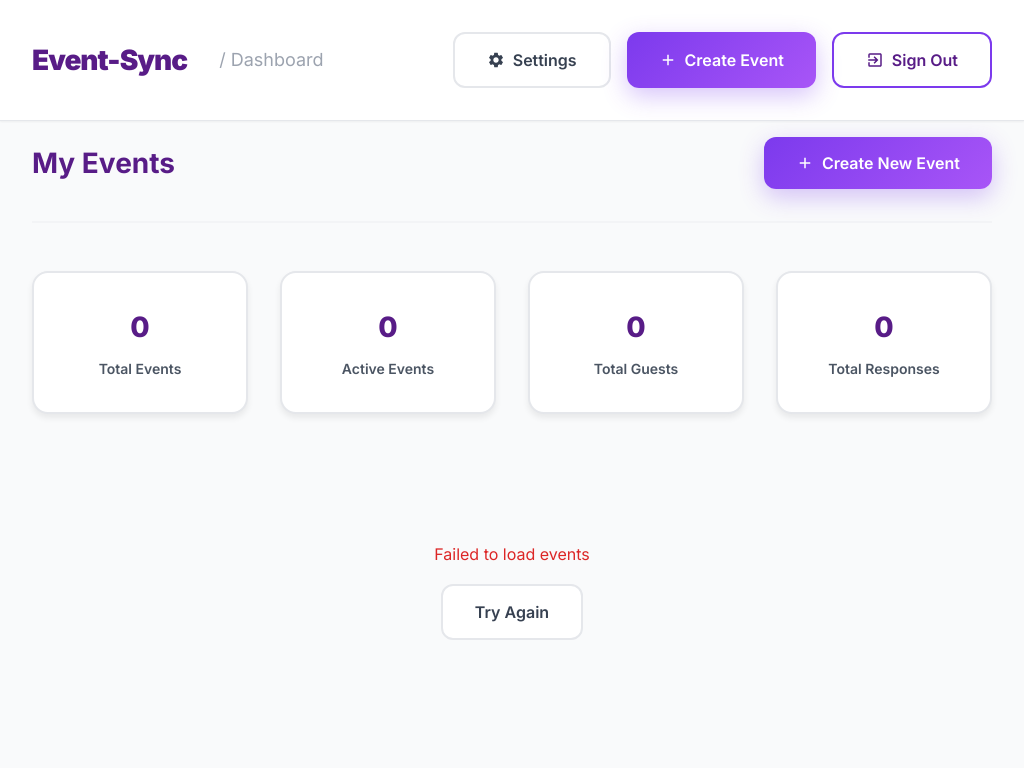
Test: Dashboard Component › Retry Functionality › should allow retrying failed data fetches
(page scrolled)
Click the button "Try Again". click: (512, 612)
box: [441,584,583,640]
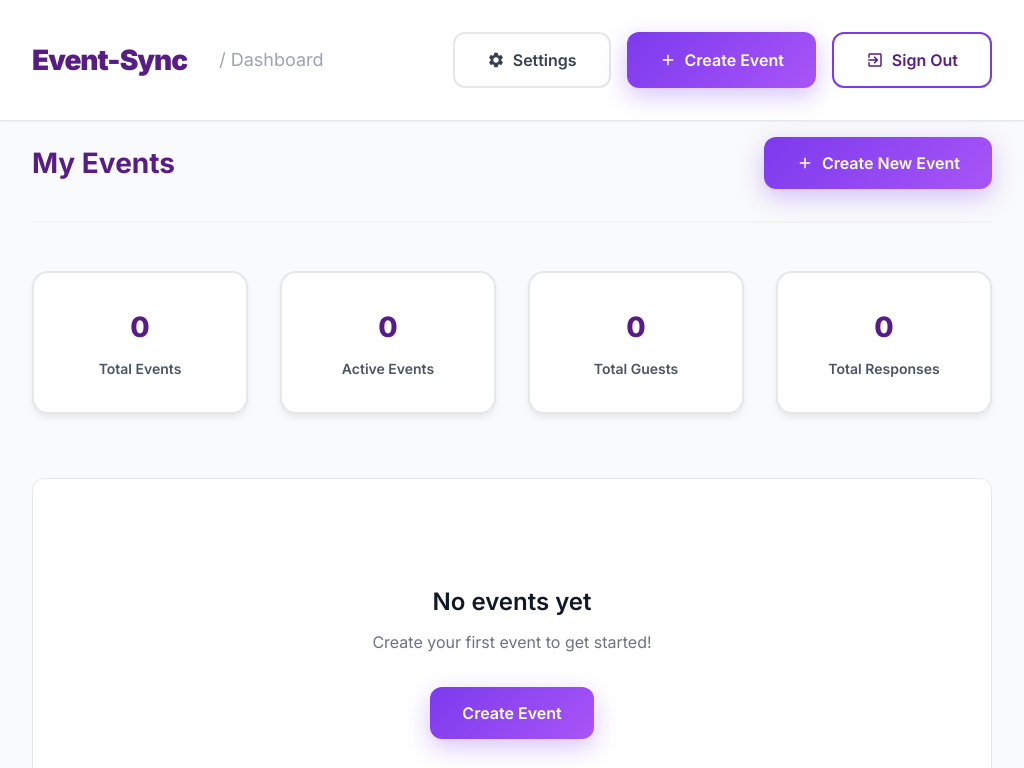
Expected: the heading "No events yet" is shown, [432,583,592,622]
